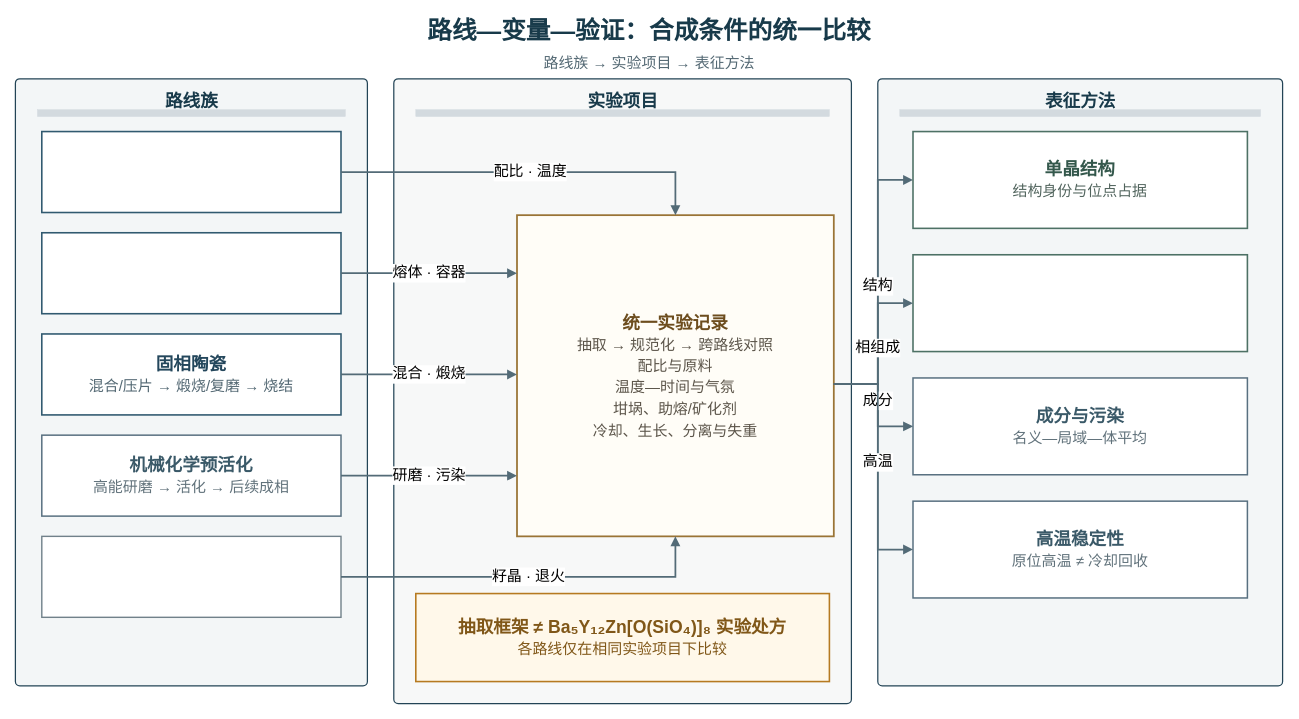
The diagram is 1299 pixels wide and 719 high, and some of its shapes have lost their labels. Here are the shapes that lost their labels. From the top down, the centre of each, then its label:
At (x=191, y=171): "外加助熔 溶解/保温 → 慢冷/分离".
At (x=191, y=273): "自熔/熔体 均化 → 自发成核 → 受控冷却".
At (x=1080, y=303): "PXRD / Rietveld 批量相纯与杂相".
At (x=191, y=576): "Czochralski 预烧/熔化 → 籽晶提拉 → 退火".
